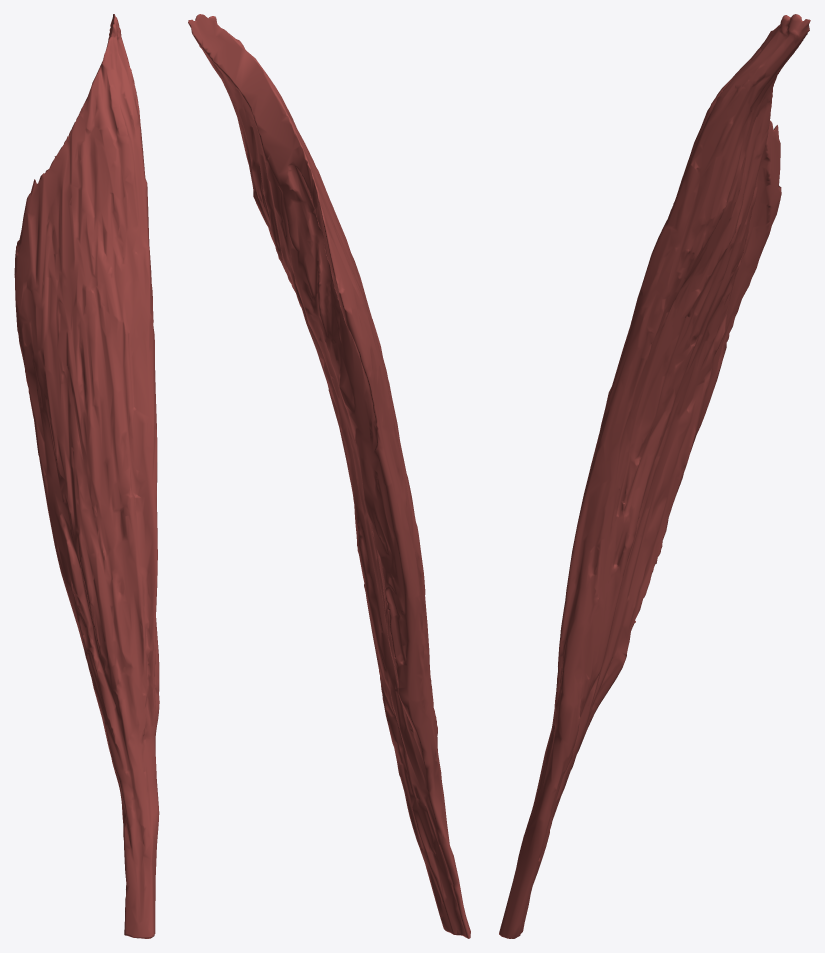
The model's file is FMA38640.glb.
3 views of the same model, side by side, from view 1: azimuth 30°, elevation 25°; view 2: azimuth 150°, elevation 25°; view 3: azimuth 270°, elevation 25° (orthographic). The views are drawn at different scales.
Visible parts, largest first — view 1: FMA38640; view 2: FMA38640; view 3: FMA38640.
Boxes of the visible parts, x1=… form: FMA38640: x1=14, y1=14, x2=159, y2=938; FMA38640: x1=188, y1=14, x2=470, y2=938; FMA38640: x1=499, y1=14, x2=810, y2=938.
Bounding box in the file's own units: 0.0282 × 0.1791 × 0.0521.
